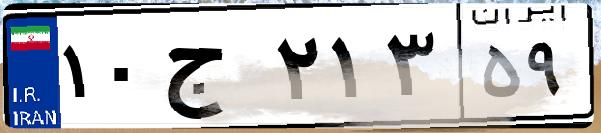0: (110, 28, 158, 98)
1: (330, 28, 385, 110), (57, 26, 110, 100)
2: (270, 28, 330, 110)
3: (385, 28, 445, 110)
5: (475, 38, 525, 113)
9: (525, 38, 570, 115)
ج: (158, 20, 270, 120)
